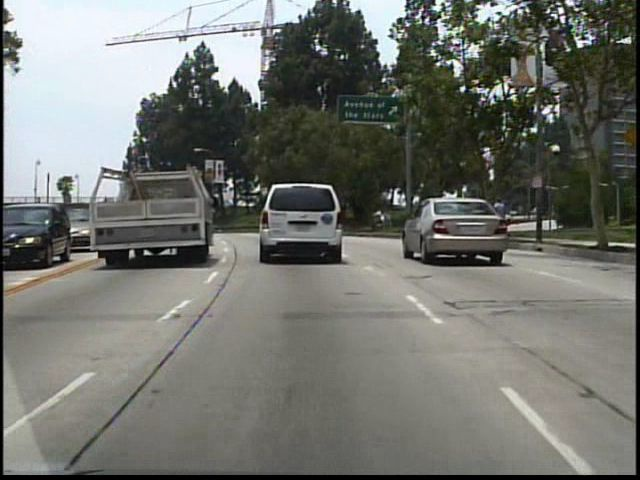person: (487, 192, 509, 240)
